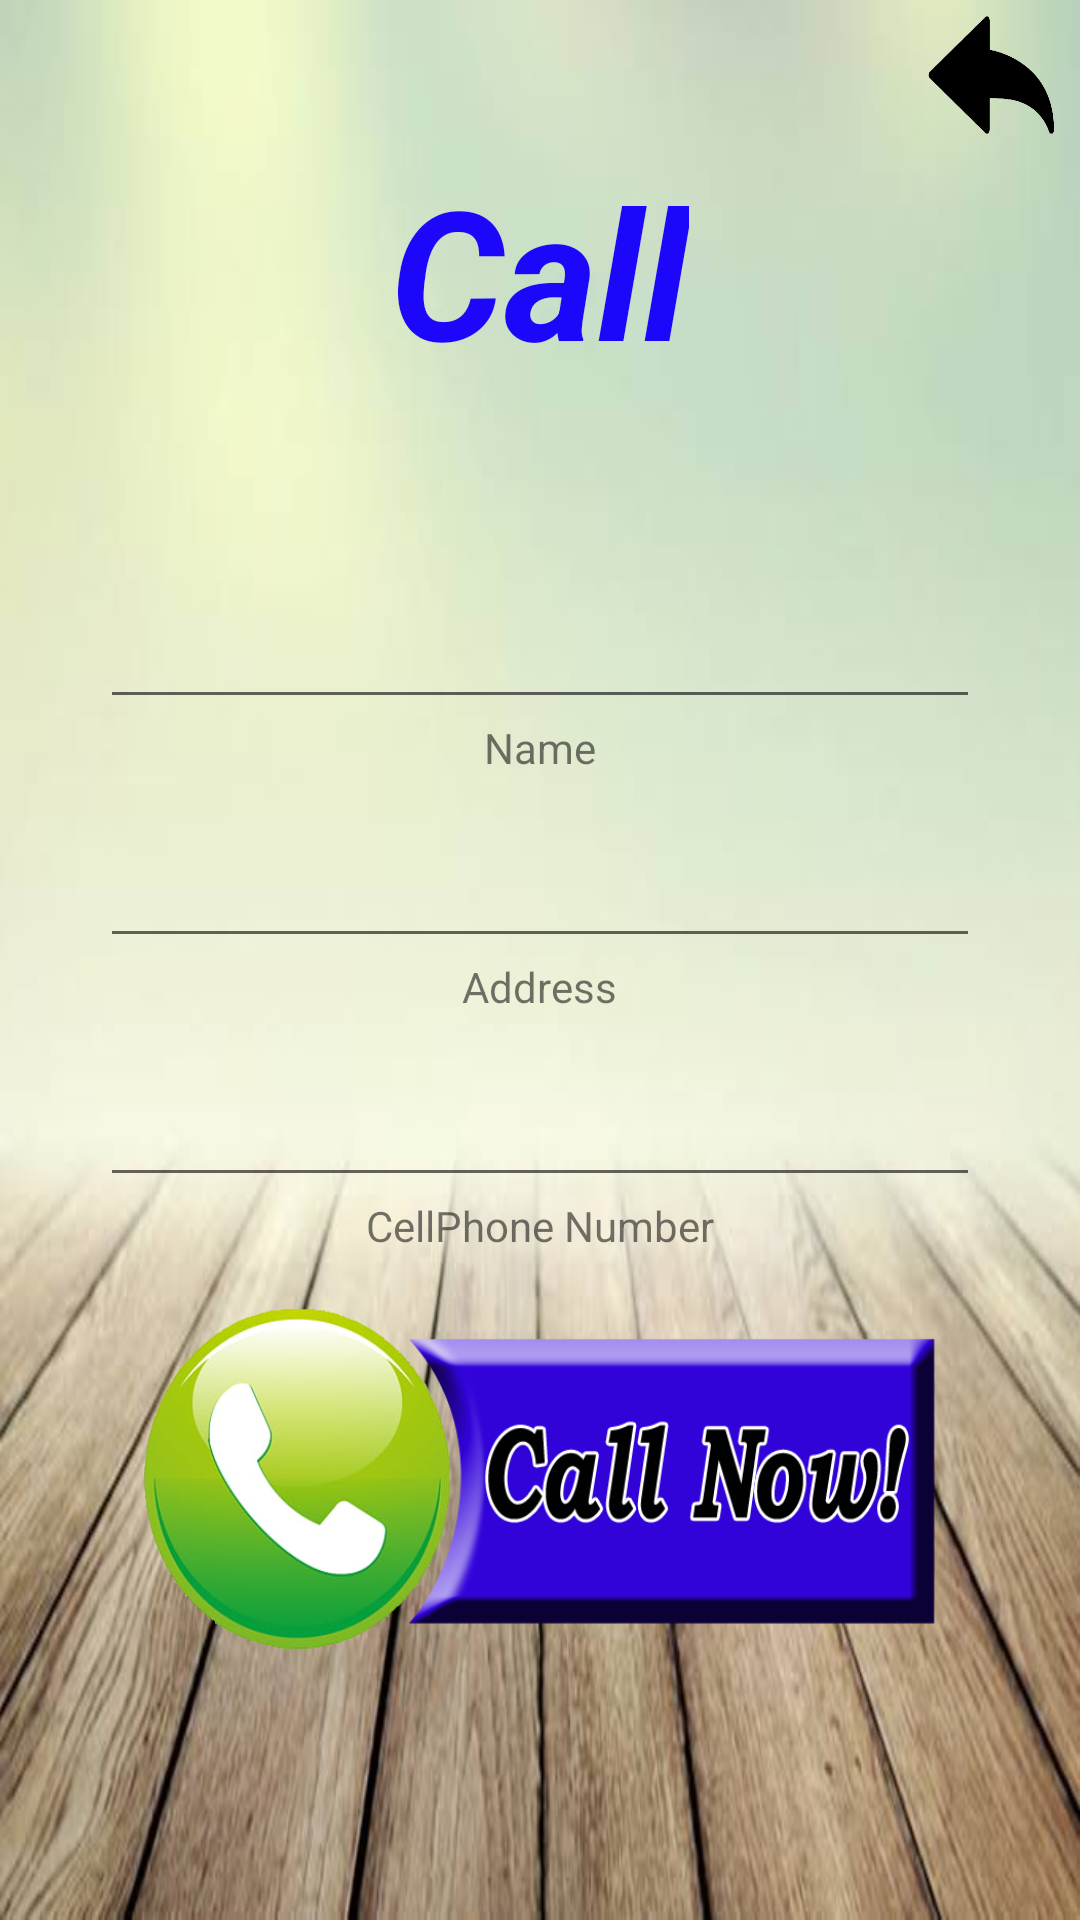

Screen size 1080w x 1920h. Icon name, then its box in pixels as [x1,y1,x2,y2]:
back arrow: [915,0,1054,134]
